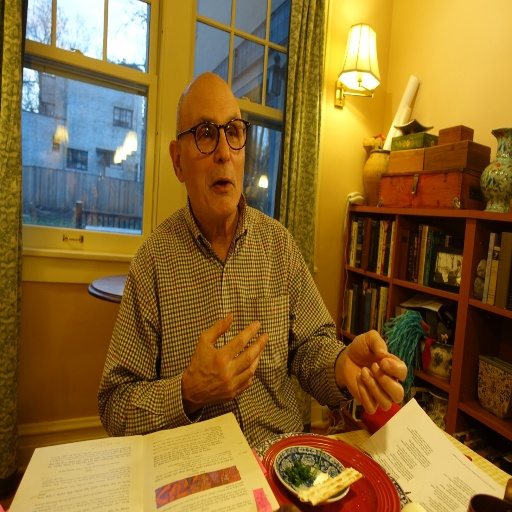hand: (176, 320, 267, 408), (341, 331, 407, 415)
